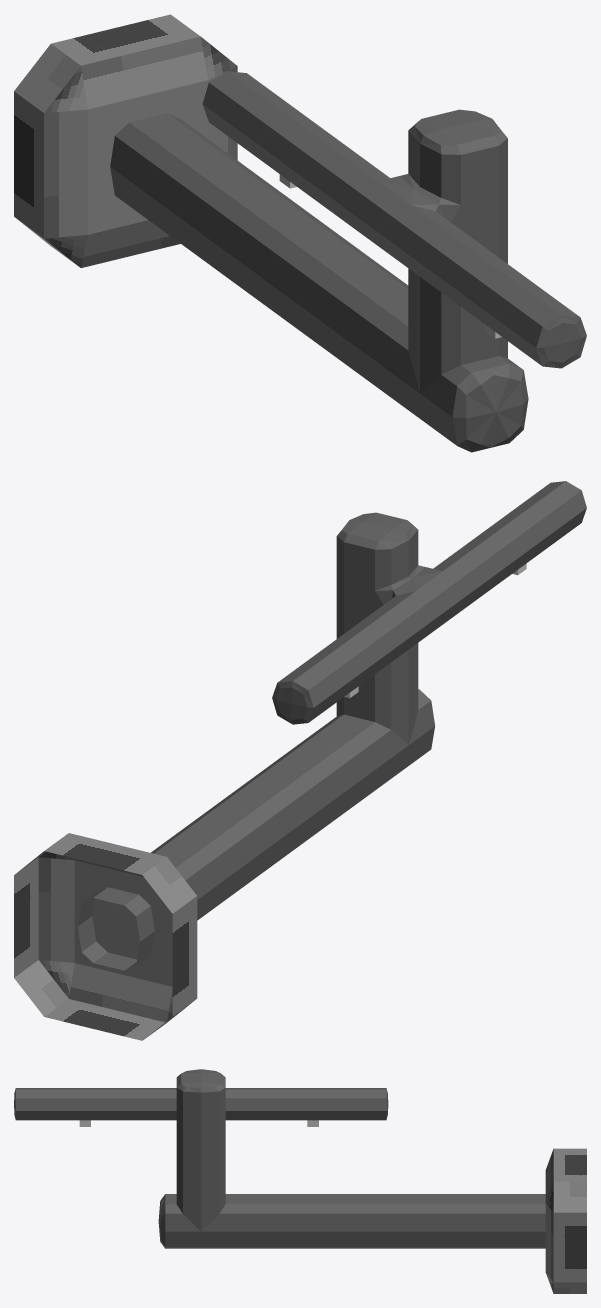
File: UtilityPoleWall.obj
3 renders of one model, top to bottom at view 1: azimuth 30°, elevation 25°; view 2: azimuth 150°, elevation 25°; view 3: azimuth 270°, elevation 25°, orthographic. The views are drawn at different scales.
Visible parts, largest first — view 1: main, foot; view 2: main, foot; view 3: main, foot.
Part boxes in pixels (bbox=[...]): main: bbox=[110, 71, 586, 452]; foot: bbox=[14, 14, 237, 267]; main: bbox=[77, 481, 586, 970]; foot: bbox=[14, 833, 197, 1040]; main: bbox=[14, 1069, 545, 1248]; foot: bbox=[545, 1148, 586, 1293].
Bounding box in the file's own units: 0.7629 × 1.36 × 3.52.
Materials: 3 (2 with a texture image).
